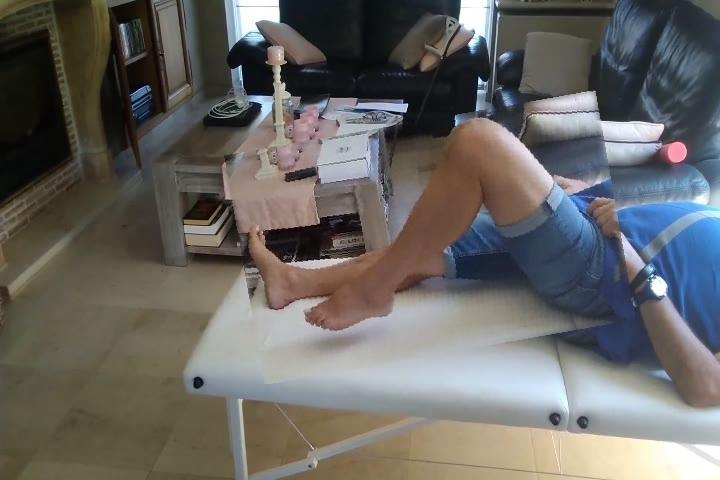lower_body: (234, 107, 628, 370)
